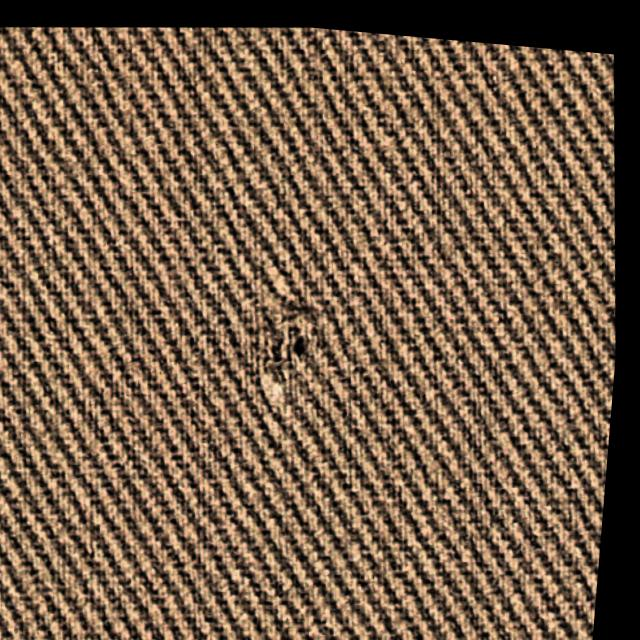Hole: (206, 249, 385, 452)
